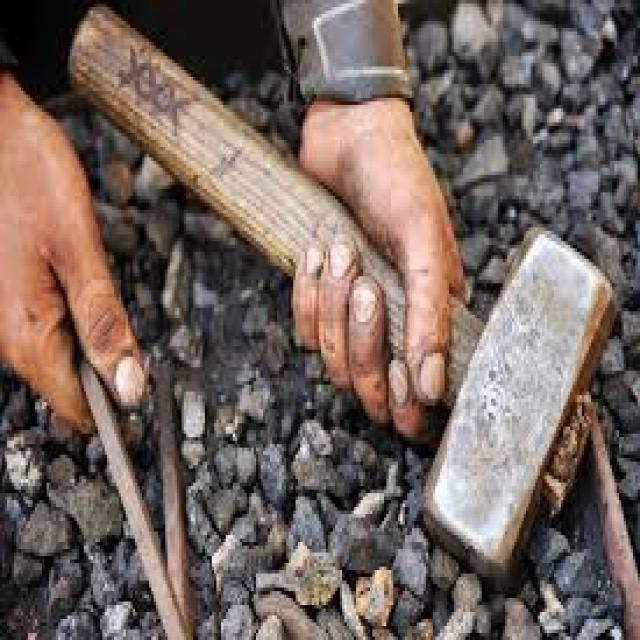hammer: (61, 0, 622, 609)
